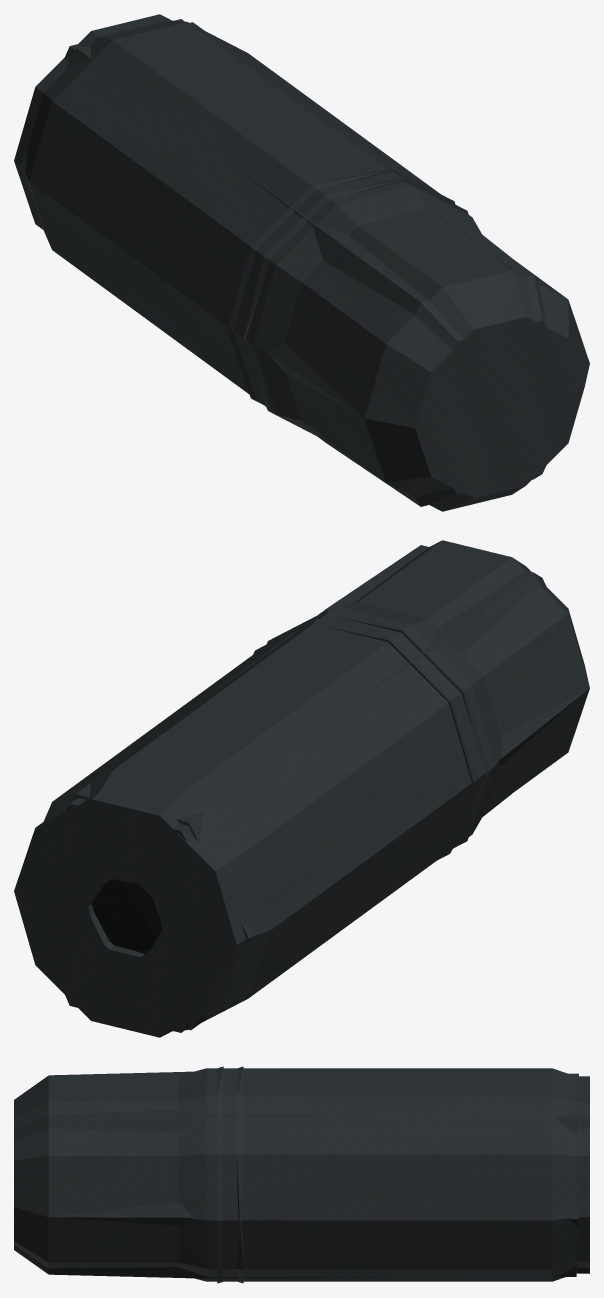
The model's file is scorpion_can.glb.
3 renders of one model, top to bottom at view 1: azimuth 30°, elevation 25°; view 2: azimuth 150°, elevation 25°; view 3: azimuth 270°, elevation 25°, orthographic. The views are drawn at different scales.
Parts seen in each view (by area): view 1: muzzle__scorpion_can_LOD0_RAID_Secondary_Original_steel, muzzle__scorpion_can_LOD1_RAID_Secondary_Original_steel; view 2: muzzle__scorpion_can_LOD0_RAID_Secondary_Original_steel, muzzle__scorpion_can_LOD1_RAID_Secondary_Original_steel, muzzle__scorpion_can_LOD0_RAID_Secondary_Original_rubber; view 3: muzzle__scorpion_can_LOD0_RAID_Secondary_Original_steel, muzzle__scorpion_can_LOD1_RAID_Secondary_Original_steel.
Part boxes in pixels (bbox=[...]): muzzle__scorpion_can_LOD0_RAID_Secondary_Original_steel: bbox=[14, 14, 589, 511]; muzzle__scorpion_can_LOD1_RAID_Secondary_Original_steel: bbox=[19, 19, 583, 506]; muzzle__scorpion_can_LOD0_RAID_Secondary_Original_steel: bbox=[14, 540, 589, 1037]; muzzle__scorpion_can_LOD1_RAID_Secondary_Original_steel: bbox=[64, 545, 589, 1032]; muzzle__scorpion_can_LOD0_RAID_Secondary_Original_rubber: bbox=[92, 879, 162, 953]; muzzle__scorpion_can_LOD0_RAID_Secondary_Original_steel: bbox=[14, 1066, 589, 1283]; muzzle__scorpion_can_LOD1_RAID_Secondary_Original_steel: bbox=[14, 1071, 589, 1278].
Size of the model in its own units: 0.0692 by 0.0658 by 0.182.
2 materials, 2 textured.
